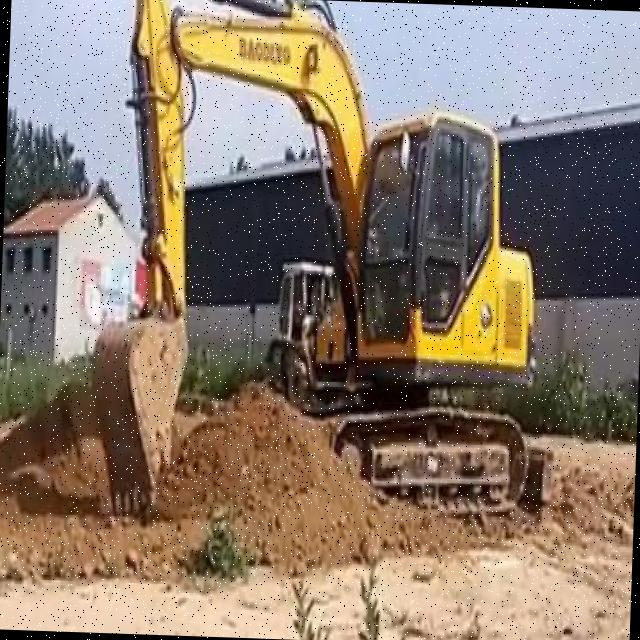Excavator: (83, 0, 548, 532)
